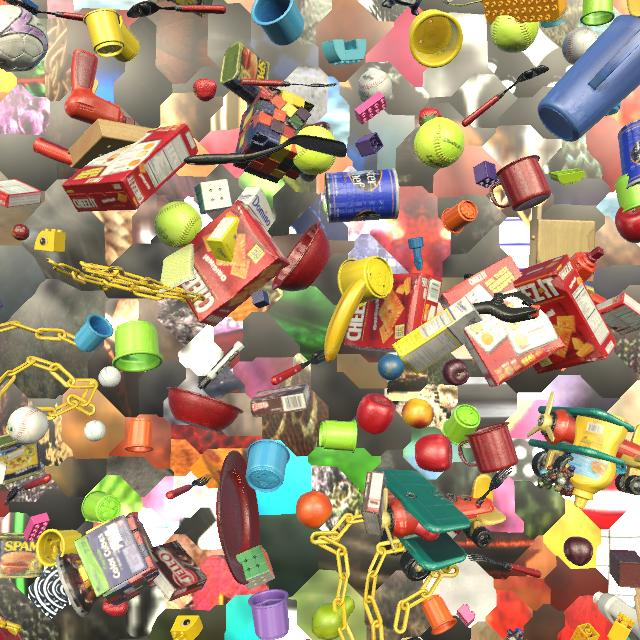ycb_002_master_chef_can: (324, 168, 400, 224), (618, 119, 640, 189)
ycb_003_cracker_box: (438, 255, 566, 387), (178, 200, 290, 327), (513, 254, 617, 374), (62, 123, 198, 212), (344, 273, 442, 353)
ycb_004_sugar_box: (392, 296, 483, 375), (206, 186, 275, 262), (0, 463, 7, 488)
ycb_006_mustard_bottle: (567, 414, 629, 509)
ycb_008_pudding_box: (151, 540, 208, 602), (250, 383, 311, 418), (361, 471, 387, 536)
ycb_009_gelatin_box: (596, 292, 640, 335), (0, 179, 42, 208)
ycb_010_potted_meat_can: (220, 41, 270, 107), (0, 434, 43, 485), (0, 532, 44, 579), (166, 0, 213, 18)
ycb_011_banana: (324, 278, 366, 363)
ycb_012_strawberry: (193, 78, 217, 102), (102, 601, 129, 616), (419, 108, 441, 126)
ycb_013_apple: (356, 393, 395, 435), (415, 434, 452, 472), (615, 207, 640, 243), (414, 523, 440, 541)
ycb_015_peach: (402, 398, 434, 429)
ycb_016_pear: (311, 596, 355, 640)
ycb_017_orange: (296, 491, 332, 529)
ycb_018_plum: (563, 536, 593, 566), (442, 358, 469, 386)
